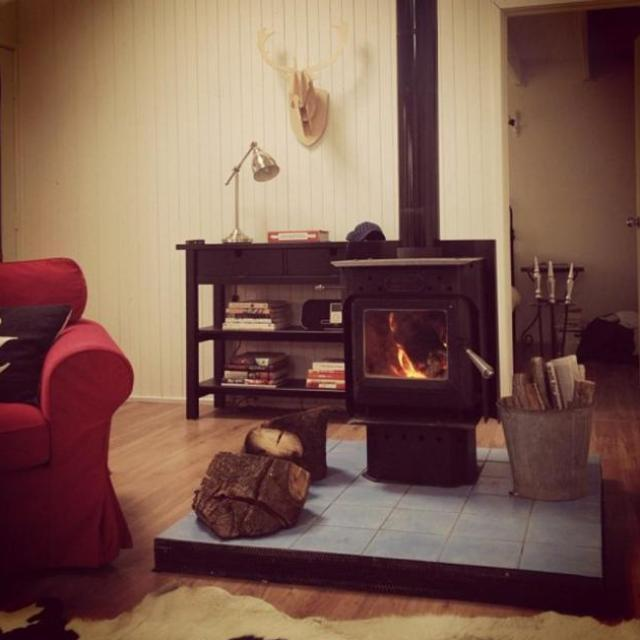smoke: (376, 314, 458, 386)
